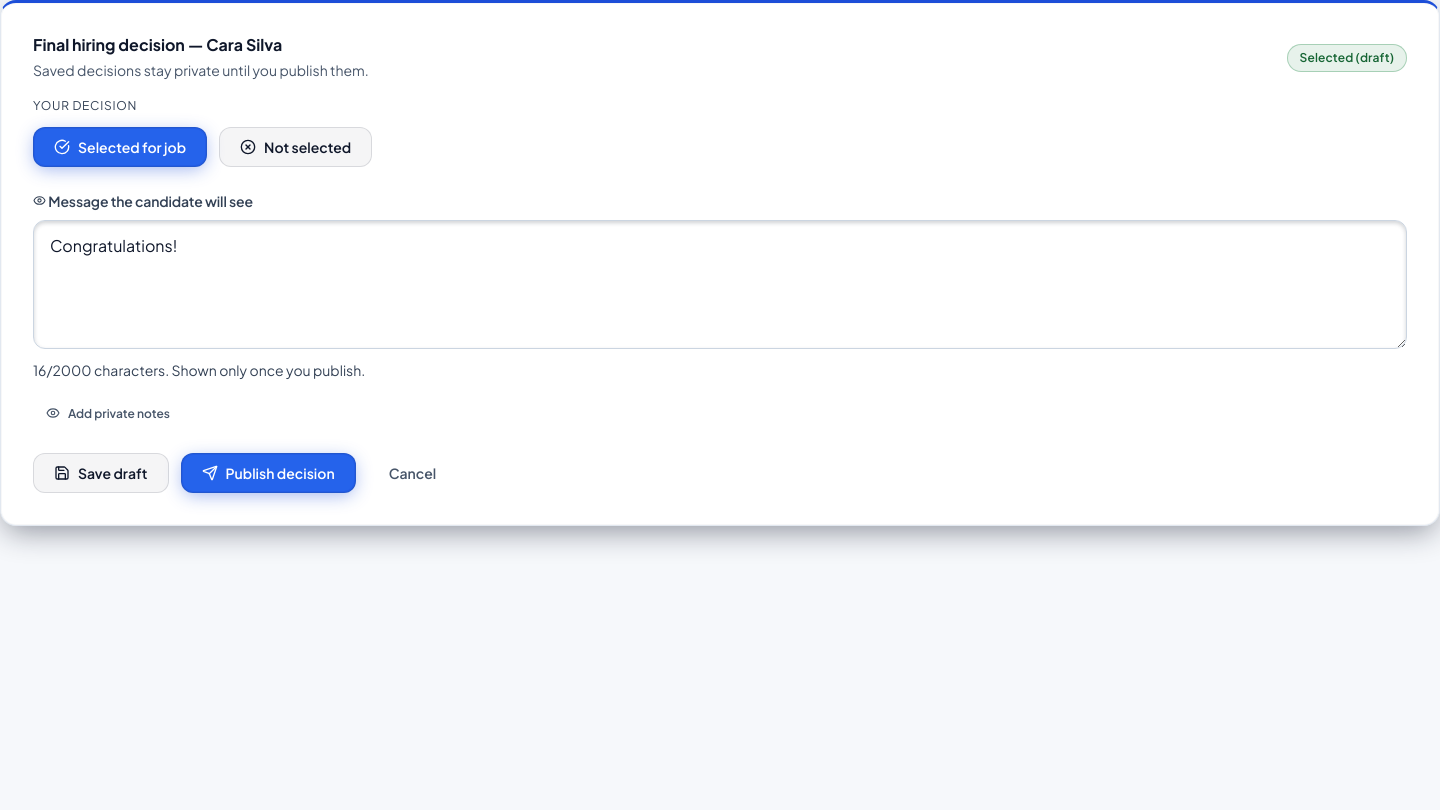
Scenario: publishing asks for confirmation before anything is announced
What coordinates should you click on to do the following:
click the button "Publish decision"
I would click on:
 (268, 473)
Its box is [180,453,356,493].
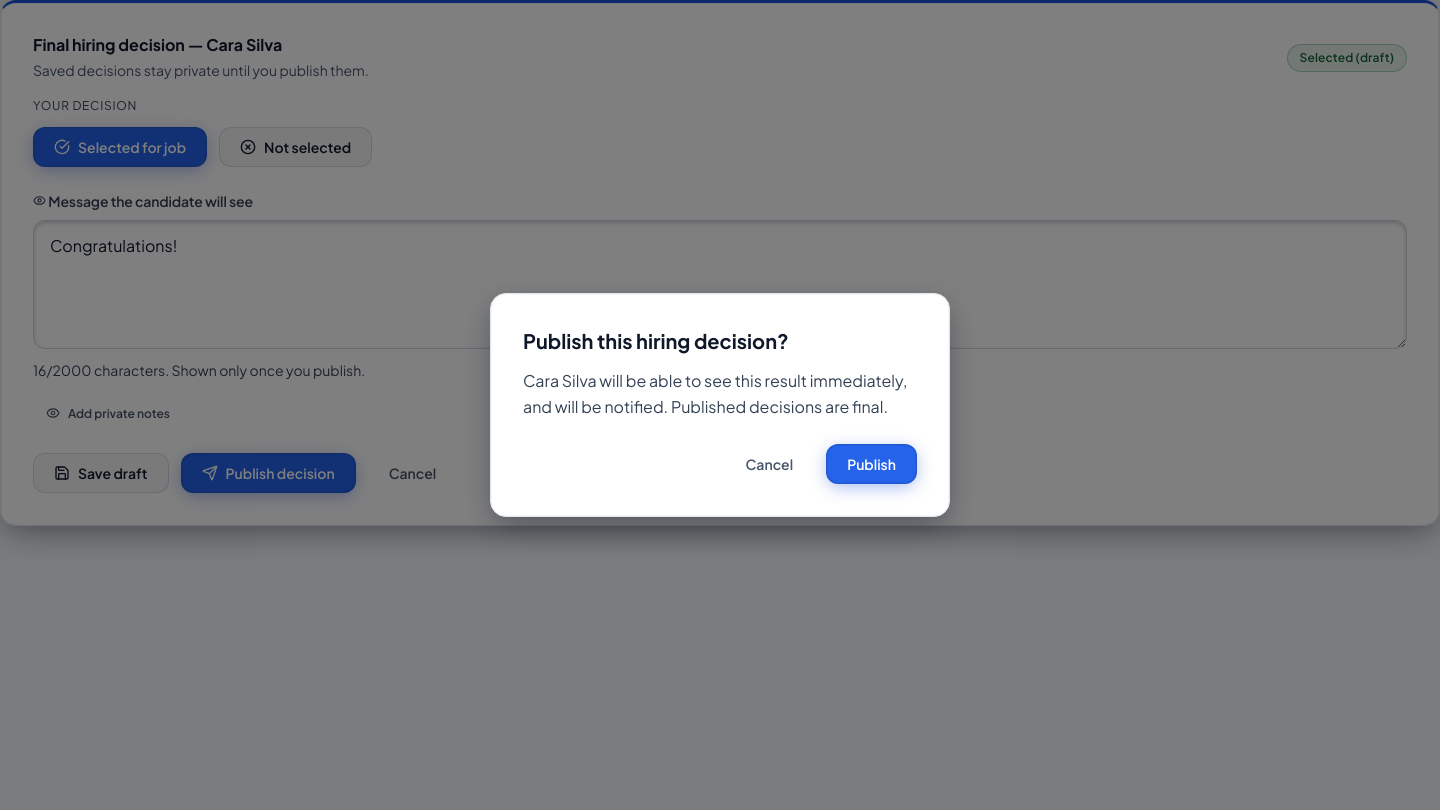
Expected: the text "Final" is shown, [33,34,282,55]
Expected: the dialog is shown
Expected: the text "Publish this hiring decision?" is shown, [523,328,789,353]
